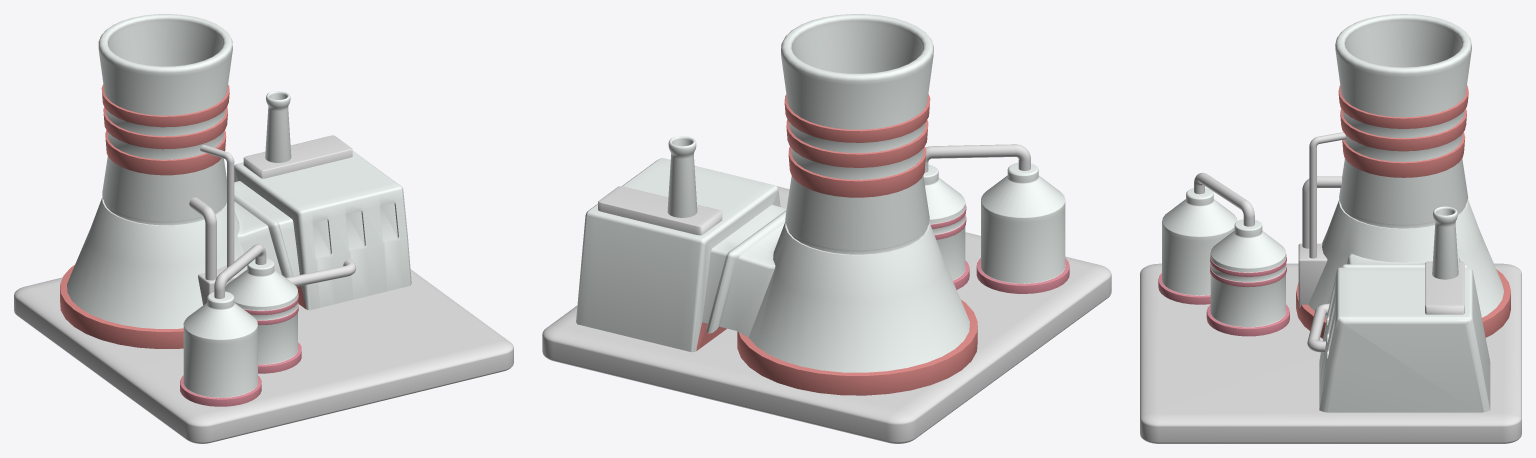
File: fabriekb.fbx
The picture shows the model from 3 angles, left to right: view 1: azimuth 30°, elevation 25°; view 2: azimuth 150°, elevation 25°; view 3: azimuth 270°, elevation 25°; orthographic projection. The views are drawn at different scales.
Parts seen in each view (by area): view 1: Cylinder, Cube, Cylinder.003, Cube.001, Cylinder.001, Cylinder.006, Cylinder.005, Cylinder.004, Cylinder.007; view 2: Cylinder, Cube, Cylinder.003, Cube.001, Cylinder.001, Cylinder.004; view 3: Cylinder, Cube, Cylinder.003, Cylinder.001, Cube.001, Cube.003, Cylinder.006, Cylinder.004, Cylinder.005, Cylinder.007.
Boxes of the visible parts, left/top/right/bottom form: Cylinder: left=60, top=14, right=411, bottom=348; Cube: left=14, top=269, right=513, bottom=443; Cylinder.003: left=180, top=258, right=301, bottom=406; Cube.001: left=243, top=135, right=352, bottom=178; Cylinder.001: left=265, top=91, right=291, bottom=162; Cylinder.006: left=200, top=145, right=234, bottom=267; Cylinder.005: left=189, top=197, right=216, bottom=280; Cylinder.004: left=214, top=244, right=266, bottom=298; Cylinder.007: left=286, top=259, right=356, bottom=286; Cylinder: left=576, top=14, right=977, bottom=395; Cube: left=542, top=186, right=1111, bottom=443; Cylinder.003: left=923, top=162, right=1069, bottom=293; Cube.001: left=598, top=186, right=722, bottom=235; Cylinder.001: left=667, top=136, right=697, bottom=217; Cylinder.004: left=924, top=144, right=1030, bottom=172; Cylinder: left=1296, top=14, right=1510, bottom=412; Cube: left=1140, top=263, right=1521, bottom=443; Cylinder.003: left=1158, top=188, right=1289, bottom=336; Cylinder.001: left=1432, top=206, right=1458, bottom=279; Cube.001: left=1425, top=261, right=1464, bottom=314; Cube.003: left=1298, top=243, right=1327, bottom=307; Cylinder.006: left=1309, top=132, right=1345, bottom=258; Cylinder.004: left=1194, top=172, right=1254, bottom=226; Cylinder.005: left=1302, top=176, right=1341, bottom=248; Cylinder.007: left=1307, top=303, right=1329, bottom=352.
Bounding box in the file's own units: 600 × 511 × 600.
